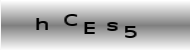5: (123, 25, 137, 38)
C: (63, 13, 77, 27)
E: (82, 21, 95, 35)
h: (34, 17, 48, 31)
s: (105, 21, 118, 32)
